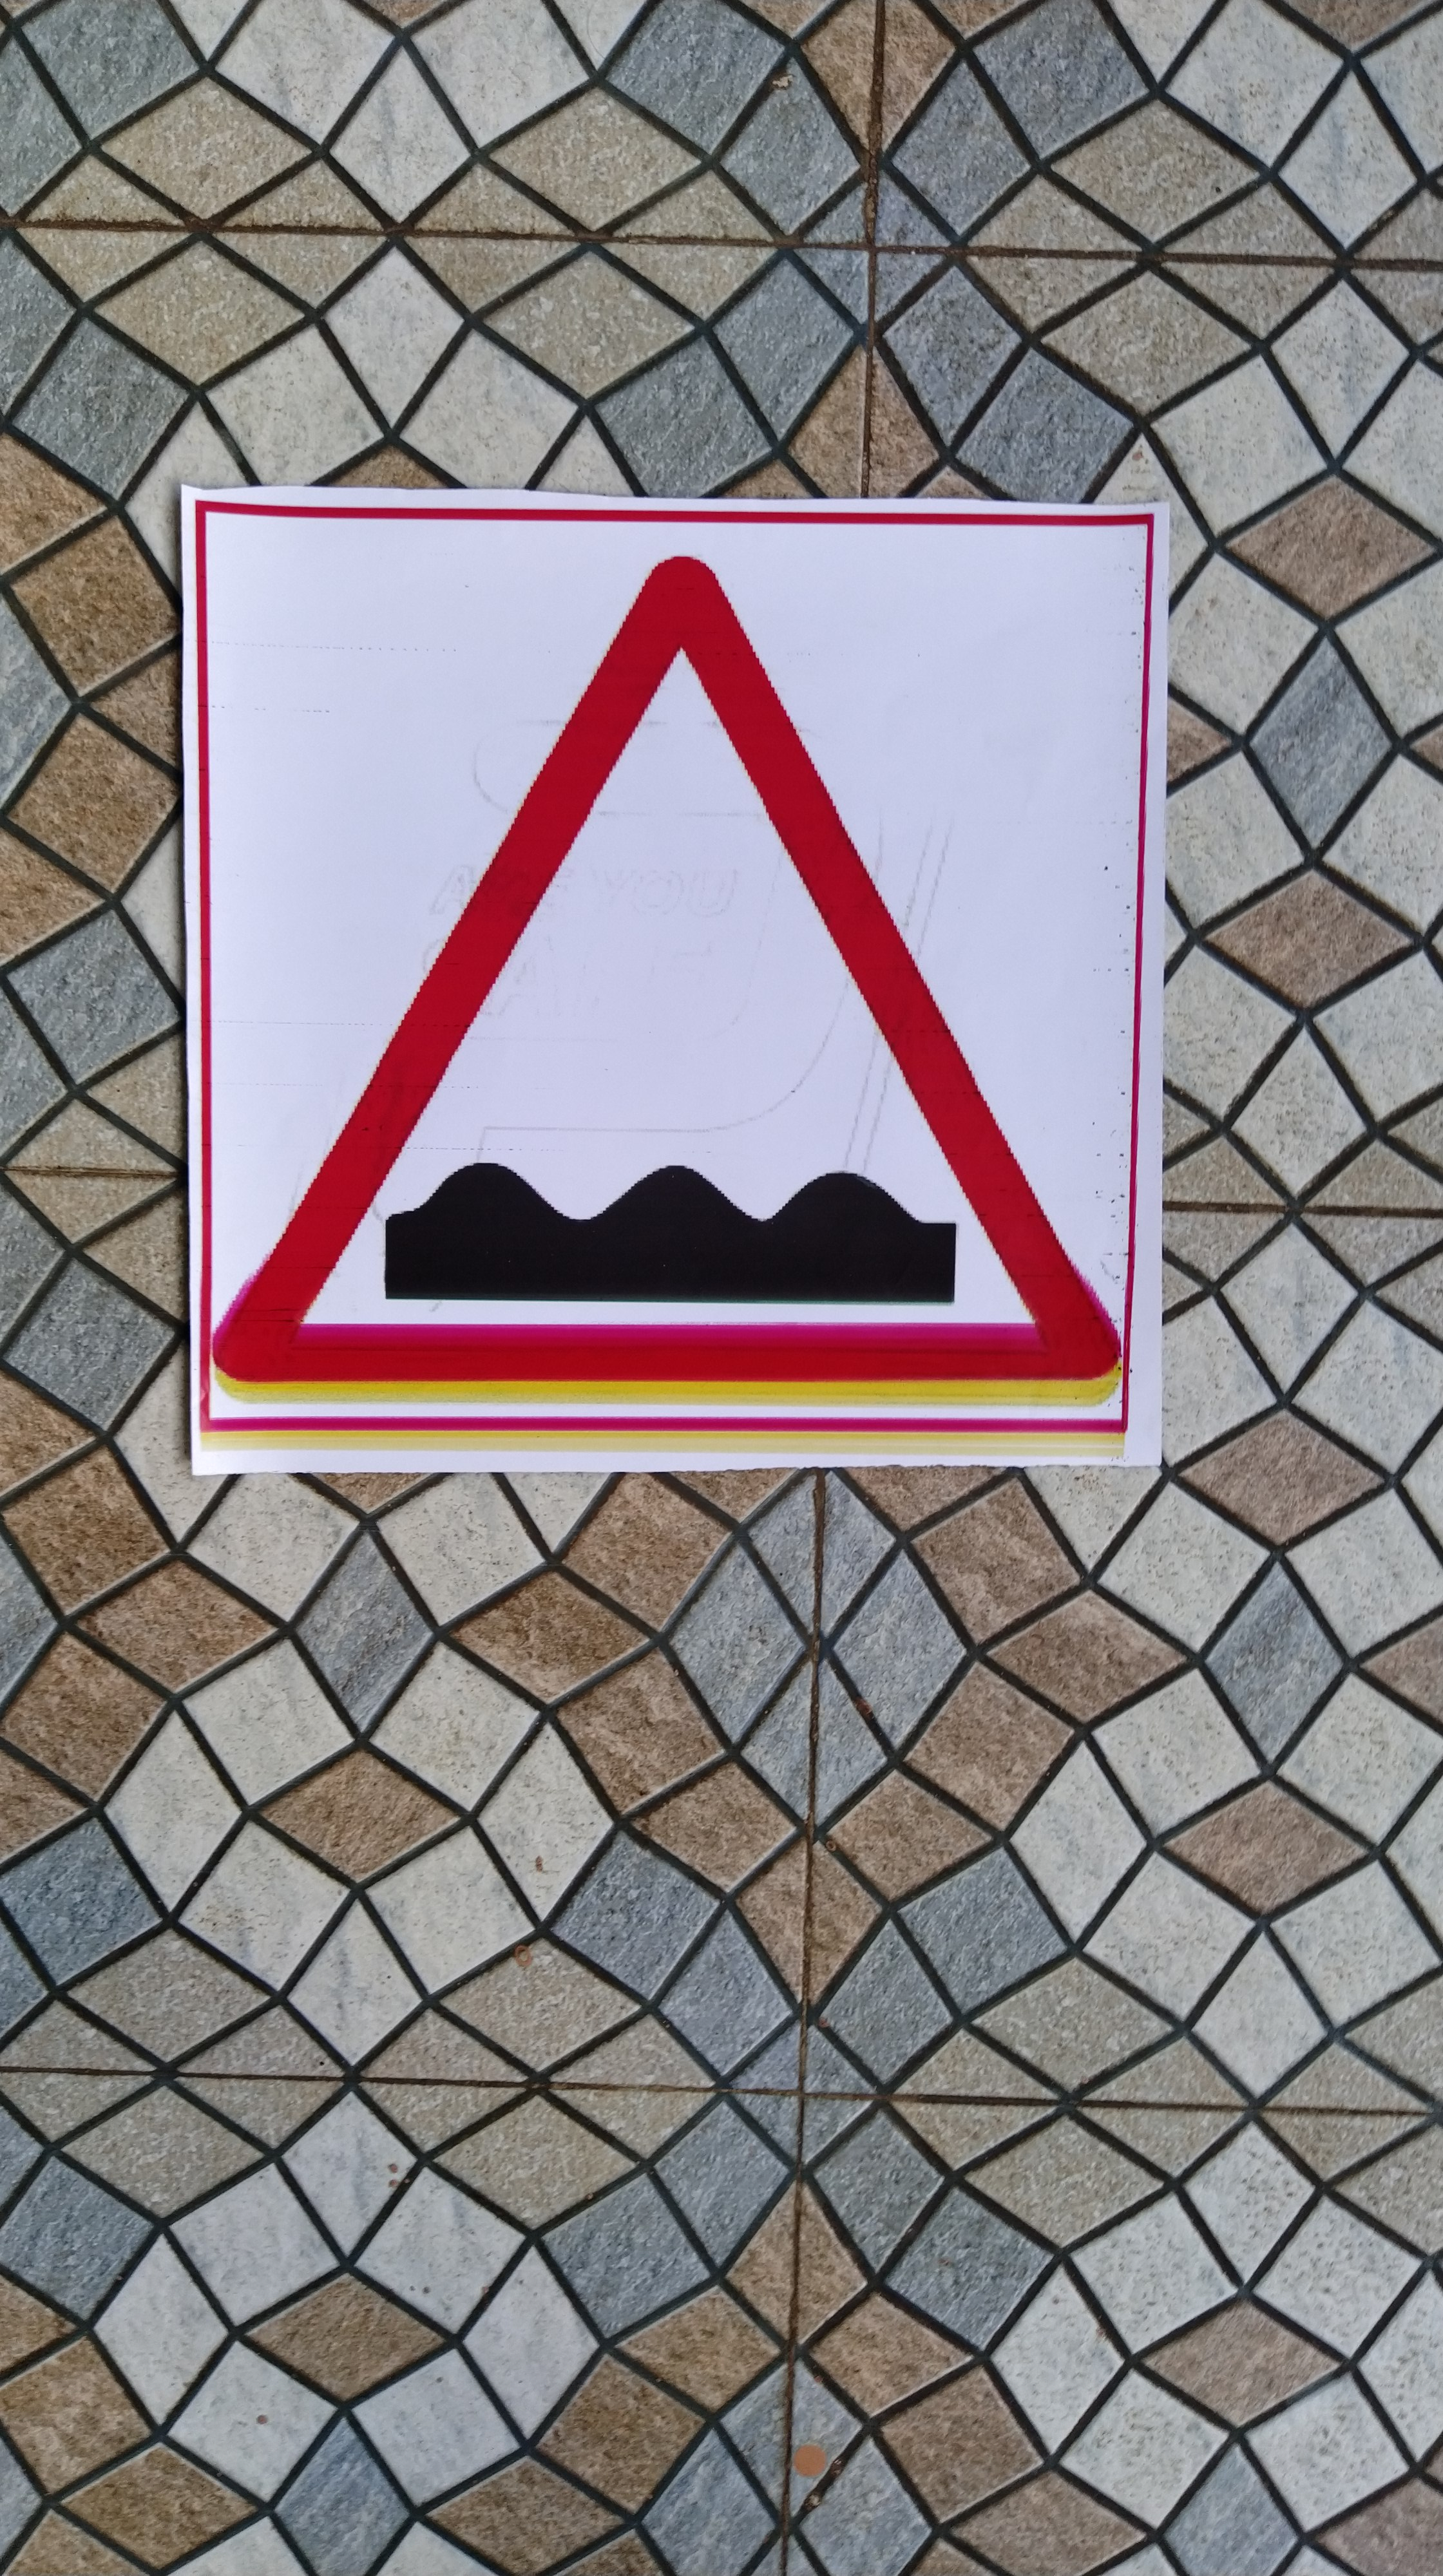speed breaker: (181, 488, 1146, 1483)
